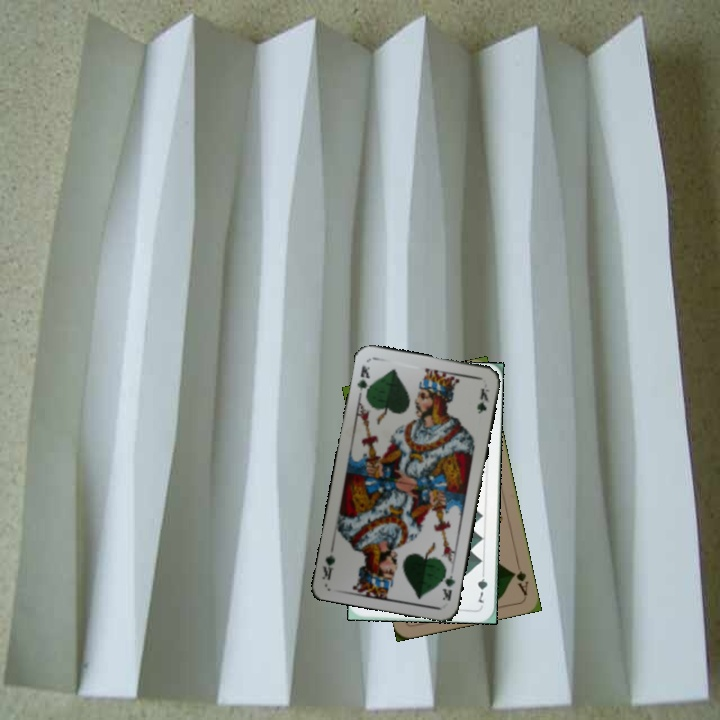G7: (473, 566, 490, 605)
GA: (509, 557, 531, 597)
GK: (438, 565, 458, 603), (353, 362, 373, 399)
